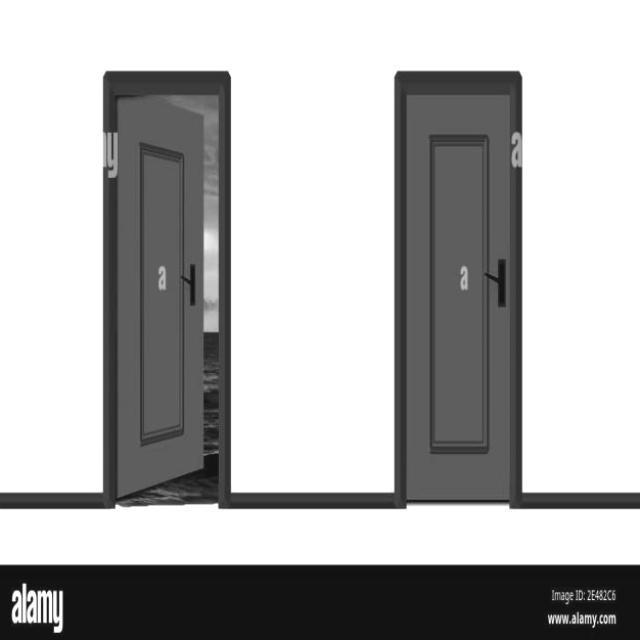door: (395, 70, 521, 502), (113, 92, 205, 498)
